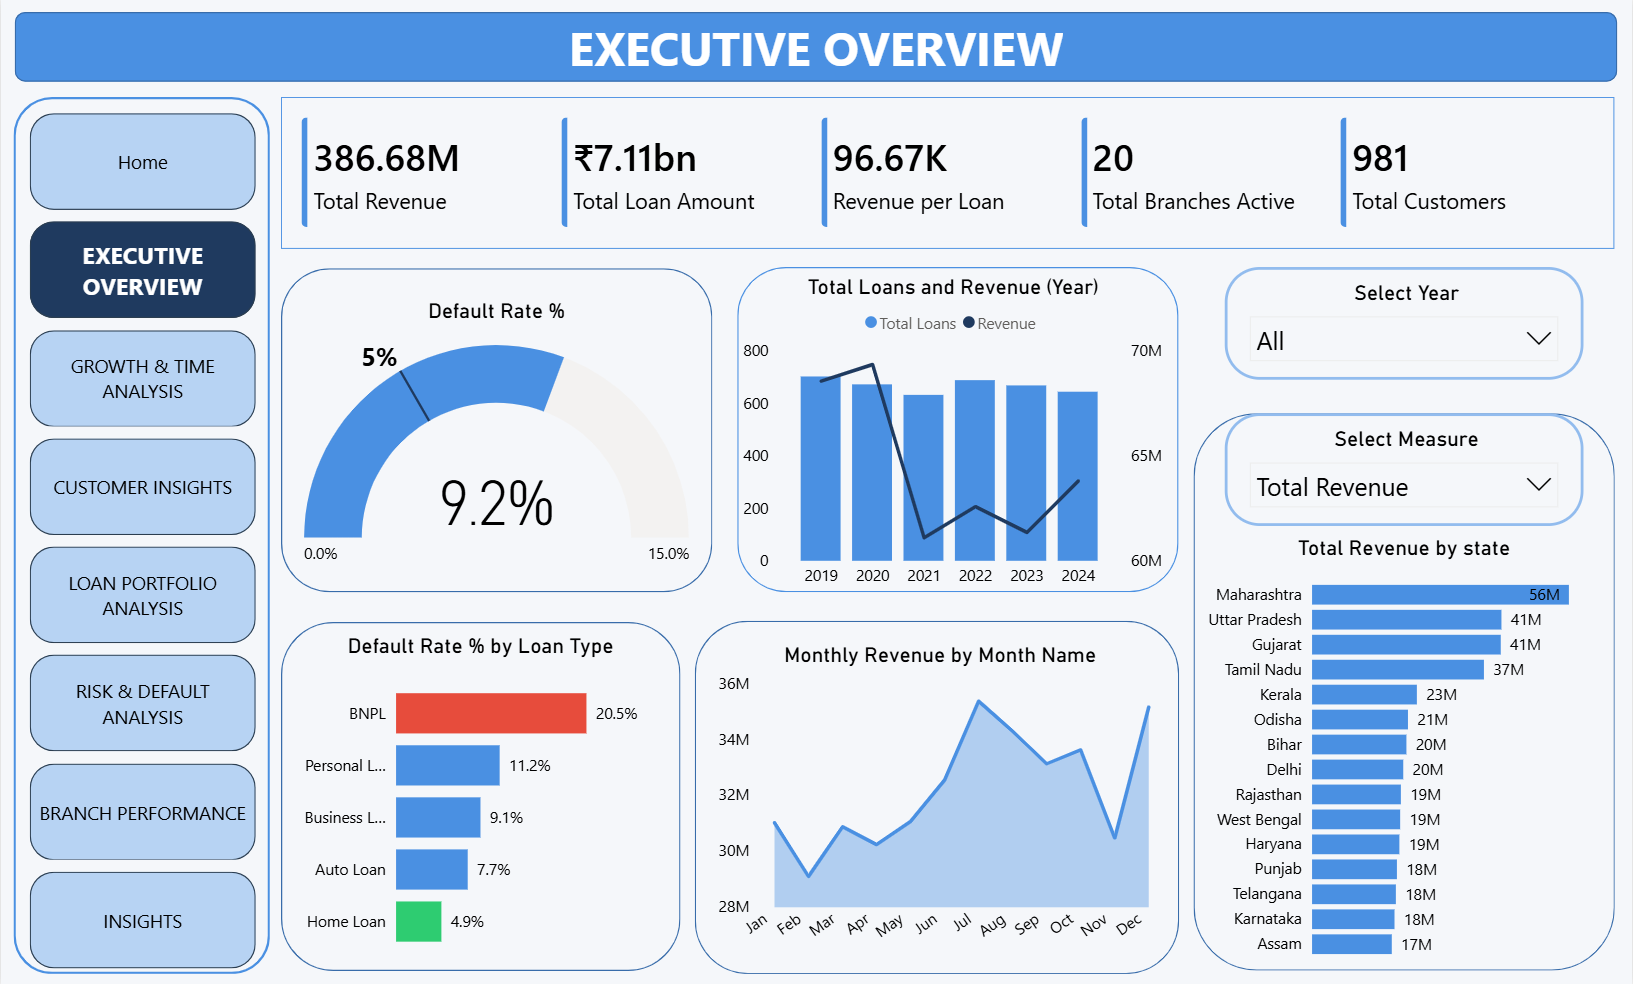

What the dashboard file says about the page in this screenshot:
{"tool":"powerbi","page":{"name":"EXECUTIVE OVERVIEW","canvas":[1400,850],"ordinal":1},"visuals":[{"type":"shape","box":[10.9,85.9,220.3,753.1],"z":0,"group":"g1"},{"type":"shape","box":[595.3,535.5,415.9,303.4],"z":0},{"type":"shape","box":[240.5,536.2,343,299.6],"z":1000},{"type":"shape","box":[1024.1,357.5,361.8,478.6],"z":2000},{"type":"shape","box":[240.6,232.8,370.3,278.1],"z":3000},{"type":"cardVisual","fields":{"Data":["_Measures.Total Revenue","_Measures.Total Loan Amount","_Measures.Revenue per Loan","_Measures.Total Branches Active","_Measures.Total Unique Customers"]},"box":[240.7,85.5,1145,130],"z":4000},{"type":"shape","box":[632.4,232.2,378.9,279.2],"z":5000},{"type":"lineChart","fields":{"Category":["Calendar.Month Name"],"Y":["_Measures.Monthly Revenue"]},"box":[611.1,553.3,391.6,276],"z":6000},{"type":"lineClusteredColumnComboChart","title":"Total Loans and Revenue (Year)","fields":{"Y":["_Measures.Total Loans"],"Y2":["_Measures.Total Revenue"],"Category":["Calendar.Date.Variation.Date Hierarchy.Year"]},"box":[632.4,237.9,370.3,277.7],"z":7000},{"type":"clusteredBarChart","fields":{"Category":["Loan_Type.loan_type_name"],"Y":["_Measures.Default Rate %"]},"box":[240.5,546.7,343,289.1],"z":8000},{"type":"clusteredBarChart","fields":{"Y":["_Measures.Total Revenue"],"Category":["Branch.region Hierarchy.region","Branch.region Hierarchy.state","Branch.region Hierarchy.city"]},"box":[1024.1,462.9,361.8,373.2],"z":9000},{"type":"slicer","title":"Select Measure","fields":{"Values":["Branch Perfomance - Dynamic Measure.Branch Perfomance - Dynamic Measure"]},"box":[1051.1,357.5,307.6,96.9],"z":10000},{"type":"group","id":"g1","title":"Group 1","box":[10.9,85.9,220.3,753.1],"z":11000},{"type":"slicer","title":"Select Year","fields":{"Values":["Calendar.Date.Variation.Date Hierarchy.Year"]},"box":[1051.1,232.2,307.6,96.9],"z":12000},{"type":"image","box":[1289.1,0,98.4,85.9],"z":13000},{"type":"shape","box":[11.4,12.8,1375.8,59.8],"z":14000},{"type":"pageNavigator","box":[25.2,100.1,194.6,736],"z":14000,"group":"g1"},{"type":"gauge","title":"Default Rate %","fields":{"Y":["_Measures.Default Rate %"],"TargetValue":["_Measures.Default Target"],"MaxValue":["_Measures.Max Default Rate"]},"box":[254.9,258.9,340.4,240.5],"z":15000}]}

Visuals, with their boxes in screenshot pixels (x1, y1, x2, y2), scaled from the page's 1400x850 canvas onto the 1633x984 screenshot:
shape: [left=13, top=99, right=270, bottom=971]
shape: [left=694, top=620, right=1179, bottom=971]
shape: [left=281, top=621, right=681, bottom=968]
shape: [left=1195, top=414, right=1617, bottom=968]
shape: [left=281, top=270, right=713, bottom=591]
cardVisual - _Measures.Total Revenue x _Measures.Total Loan Amount: [left=281, top=99, right=1616, bottom=249]
shape: [left=738, top=269, right=1180, bottom=592]
lineChart - Calendar.Month Name x _Measures.Monthly Revenue: [left=713, top=641, right=1170, bottom=960]
"Total Loans and Revenue (Year)" lineClusteredColumnComboChart: [left=738, top=275, right=1170, bottom=597]
clusteredBarChart - Loan_Type.loan_type_name x _Measures.Default Rate %: [left=281, top=633, right=681, bottom=968]
clusteredBarChart - _Measures.Total Revenue x Branch.region Hierarchy.region: [left=1195, top=536, right=1617, bottom=968]
"Select Measure" slicer: [left=1226, top=414, right=1585, bottom=526]
"Group 1" group: [left=13, top=99, right=270, bottom=971]
"Select Year" slicer: [left=1226, top=269, right=1585, bottom=381]
image: [left=1504, top=0, right=1618, bottom=99]
shape: [left=13, top=15, right=1618, bottom=84]
pageNavigator: [left=29, top=116, right=256, bottom=968]
"Default Rate %" gauge: [left=297, top=300, right=694, bottom=578]
